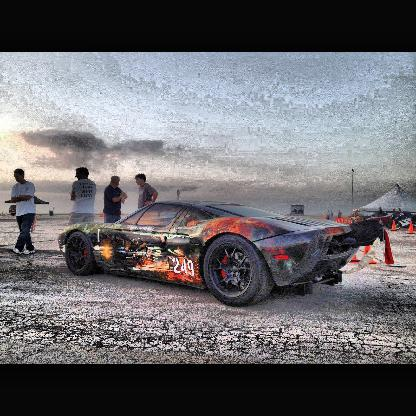Ford GT Coupe 2006: (57, 200, 355, 307)
